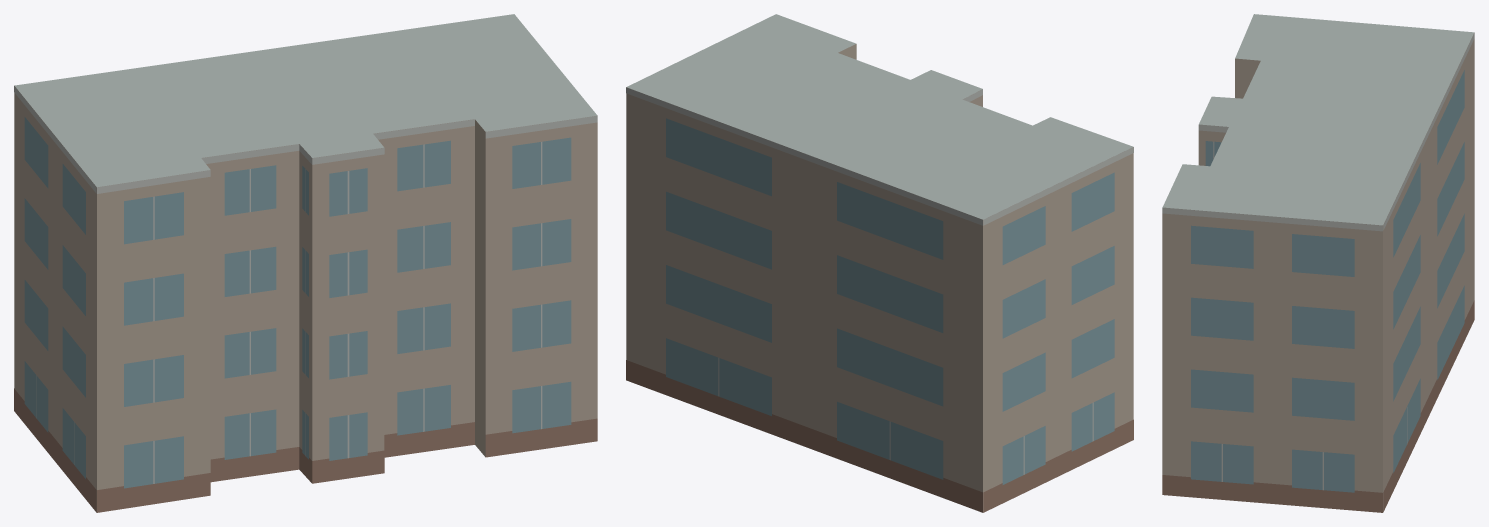
File: survey-upis-32702611.glb
The picture shows the model from 3 angles, left to right: view 1: azimuth 30°, elevation 25°; view 2: azimuth 150°, elevation 25°; view 3: azimuth 270°, elevation 25°; orthographic projection. The views are drawn at different scales.
Visible parts, largest first — view 1: survey-upis-32702611.tmp; view 2: survey-upis-32702611.tmp; view 3: survey-upis-32702611.tmp.
Boxes of the visible parts, x1=… form: survey-upis-32702611.tmp: x1=14, y1=14, x2=597, y2=512; survey-upis-32702611.tmp: x1=626, y1=14, x2=1133, y2=512; survey-upis-32702611.tmp: x1=1162, y1=14, x2=1474, y2=512.
Bounding box in the file's own units: 18.47 × 11.7 × 11.52.
